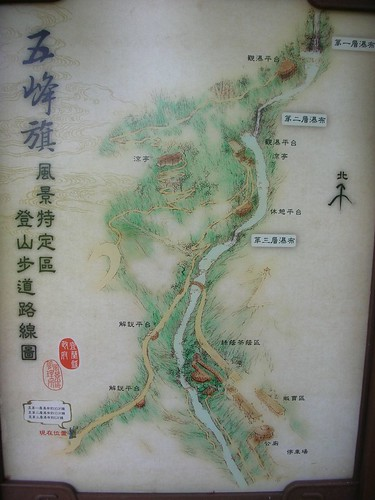wufengciMap: (3, 6, 367, 359)
